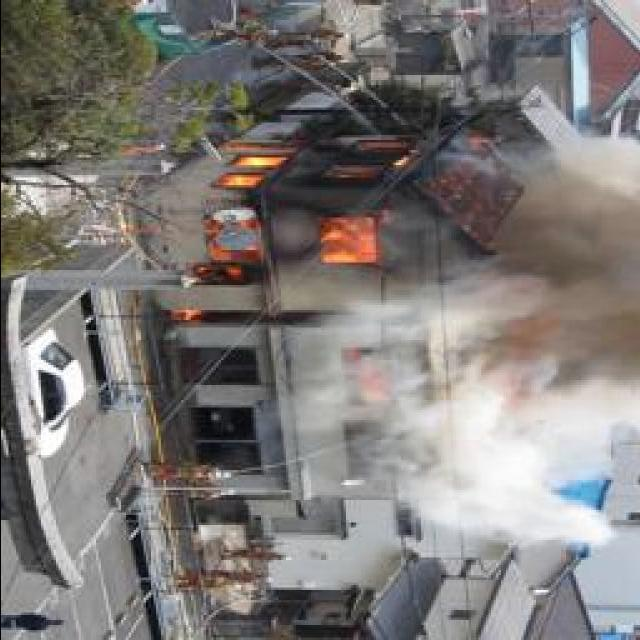Fire: (154, 107, 437, 330)
